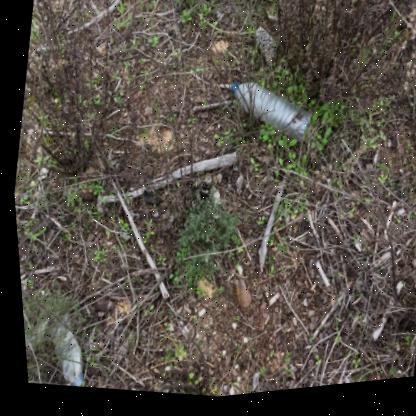Plastic: (230, 86, 309, 148), (47, 325, 78, 387)
